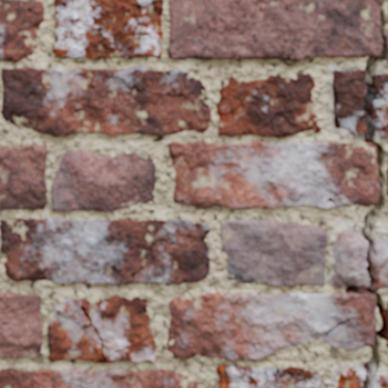brick: (3, 66, 211, 135), (1, 218, 209, 284), (170, 142, 378, 208), (168, 294, 375, 360), (169, 0, 381, 61), (48, 297, 156, 361), (222, 220, 327, 285), (218, 74, 321, 136), (54, 0, 162, 59), (52, 151, 156, 211), (0, 369, 197, 387), (0, 145, 46, 209), (0, 0, 44, 61), (0, 294, 41, 358), (218, 366, 324, 387), (386, 33, 387, 47), (386, 310, 387, 322)
broken_brick: (332, 70, 366, 135), (331, 231, 369, 288), (374, 74, 387, 139), (373, 237, 387, 291), (338, 367, 364, 387), (374, 375, 387, 387)
crack: (344, 0, 387, 387), (80, 305, 137, 362), (327, 197, 340, 207), (280, 132, 292, 136)
